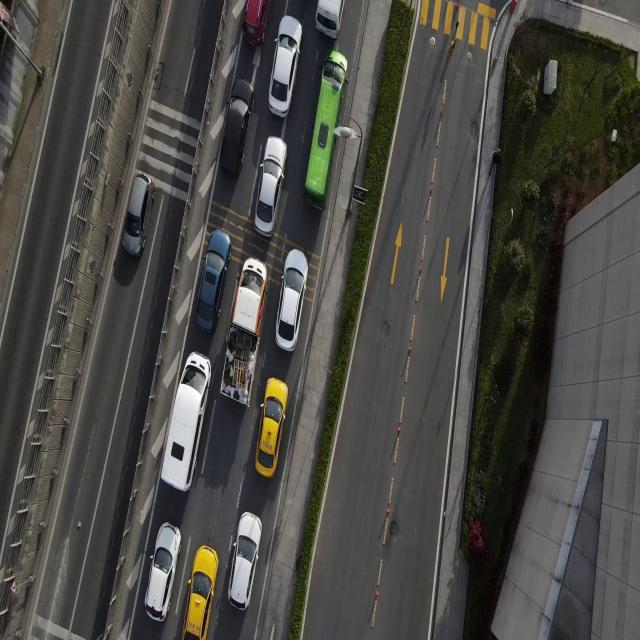p3rson: (489, 147, 501, 182)
